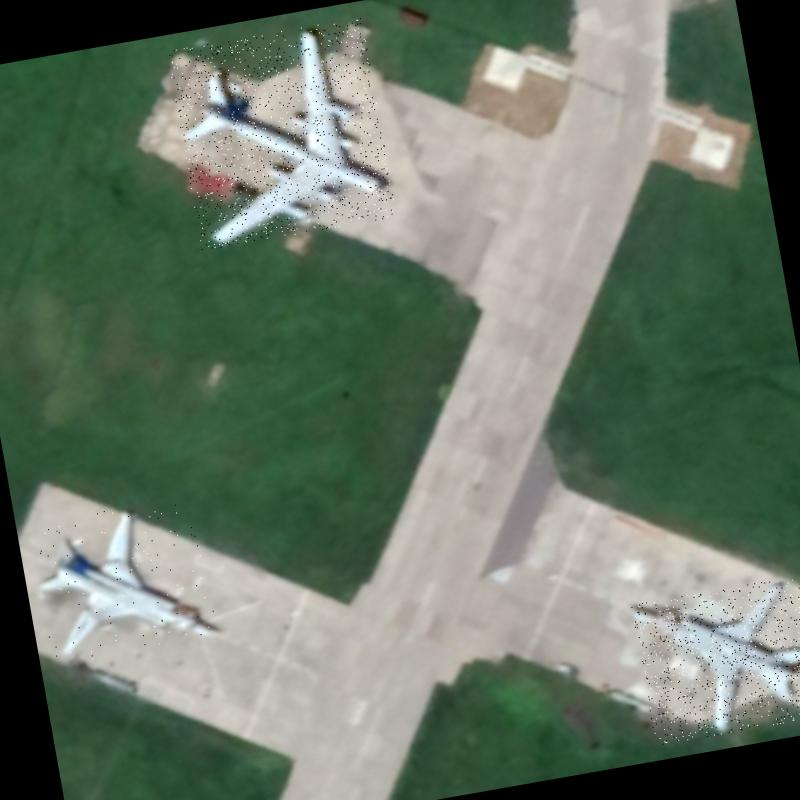A12: (28, 495, 222, 667), (631, 575, 800, 745)
A17: (167, 17, 397, 251)
